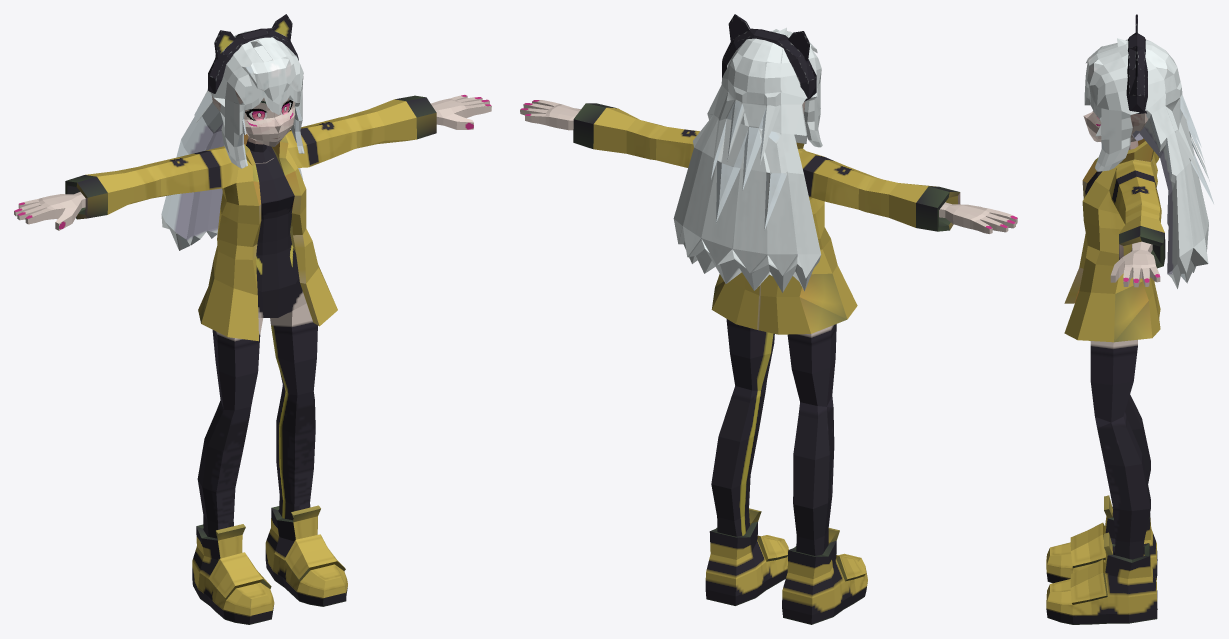
File: Momo.fbx
3 renders of one model, left to right at view 1: azimuth 30°, elevation 25°; view 2: azimuth 150°, elevation 25°; view 3: azimuth 270°, elevation 25°, orthographic. The views are drawn at different scales.
Parts seen in each view (by area): view 1: Clothes, Body, Hair; view 2: Clothes, Hair, Body; view 3: Clothes, Hair, Body.
Part boxes in pixels (x1,y1,x2,y2): Clothes: (65,95,436,624); Body: (14,90,491,538); Hair: (161,14,304,250); Clothes: (573,103,960,624); Hair: (673,14,822,292); Body: (520,100,1017,555); Clothes: (1046,138,1165,624); Hair: (1084,14,1213,288); Body: (1083,69,1167,559).
Size of the model in its own units: 147 by 167 by 44.99.
3 materials, 3 textured.
